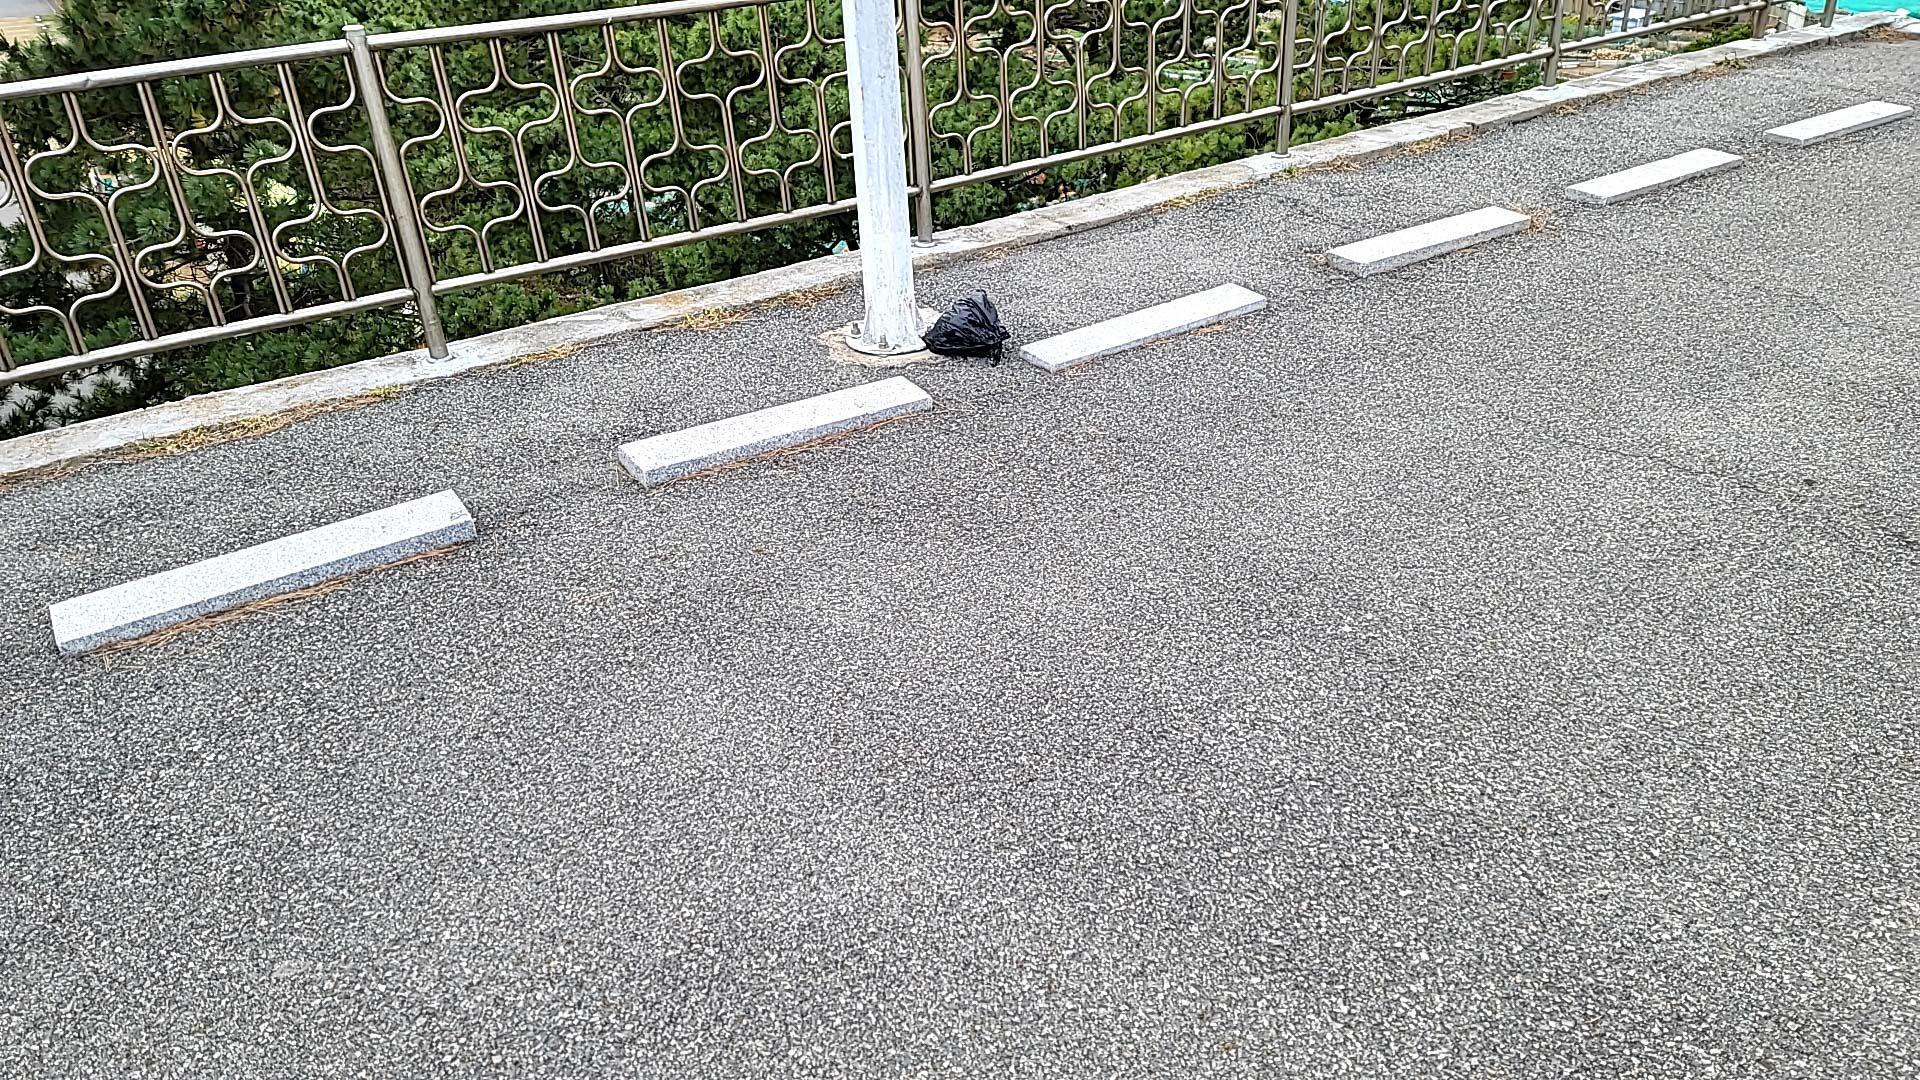black_bag: (915, 285, 1018, 375)
